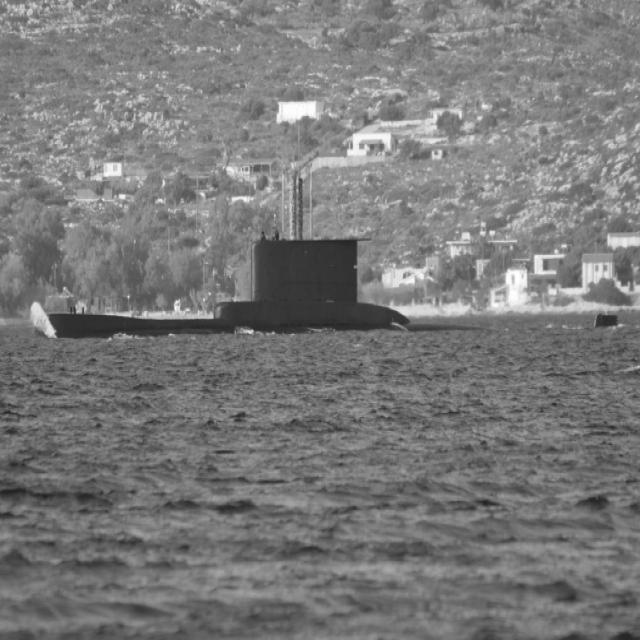submarine: (40, 224, 620, 336)
